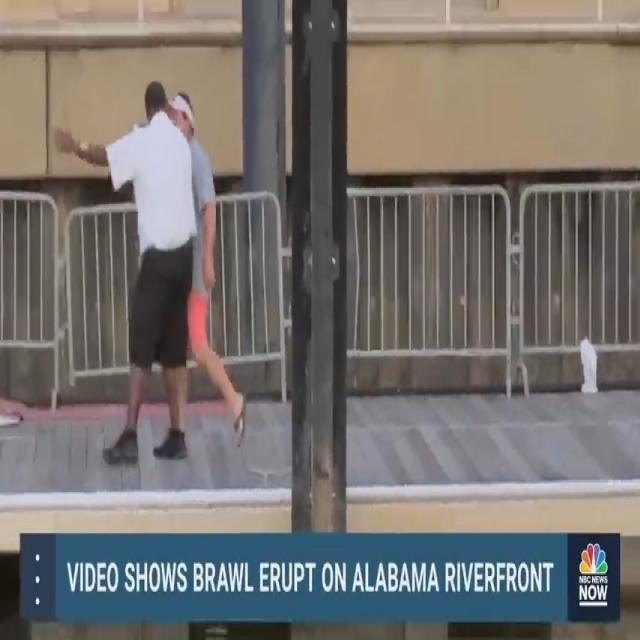non-fight: (37, 76, 267, 483)
